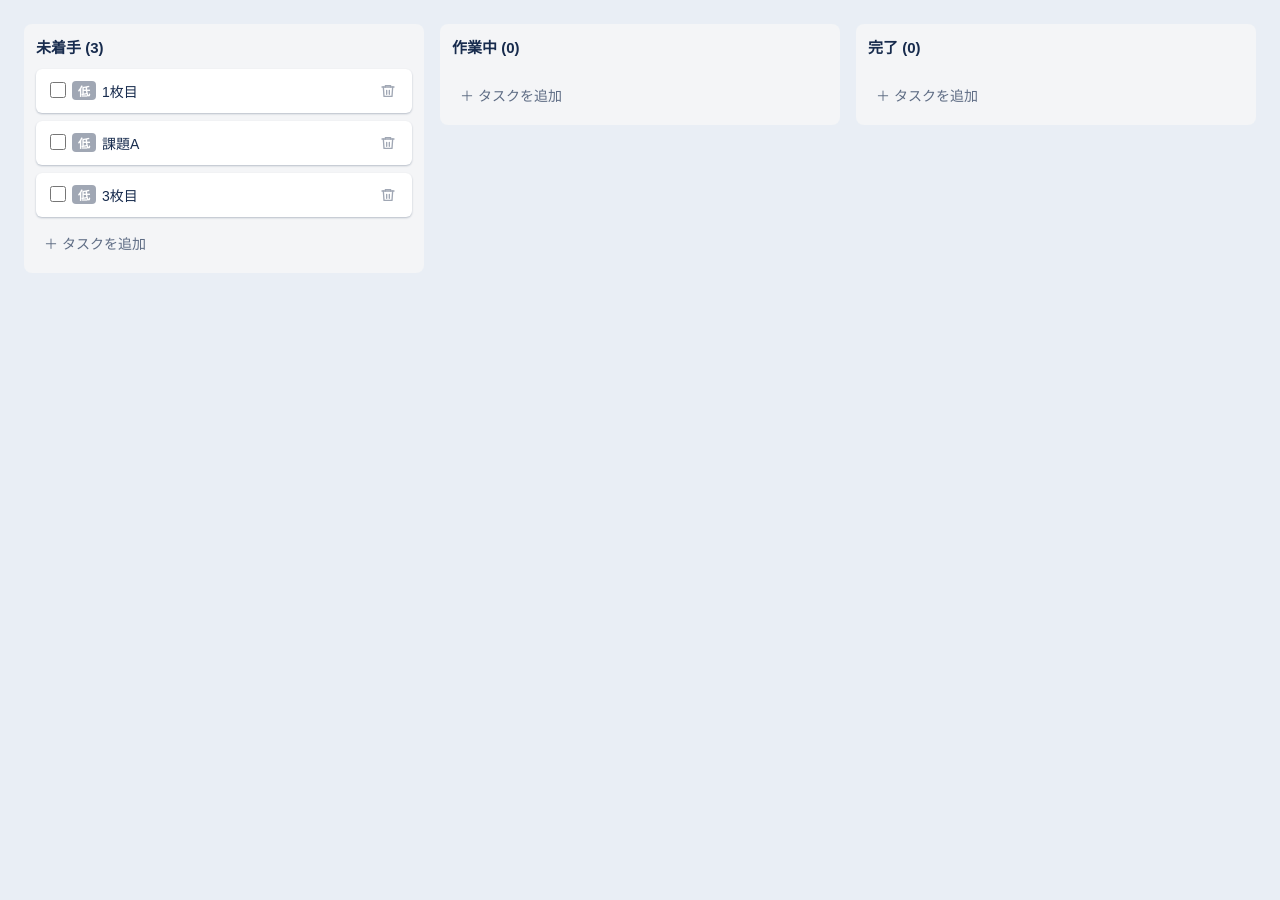
Test: 内容を変えて保存すると、ウィンドウが閉じてカードの表示が変わる
Click the button with aria-label "課題A を編集" at (121, 144), box [36,121,412,165]
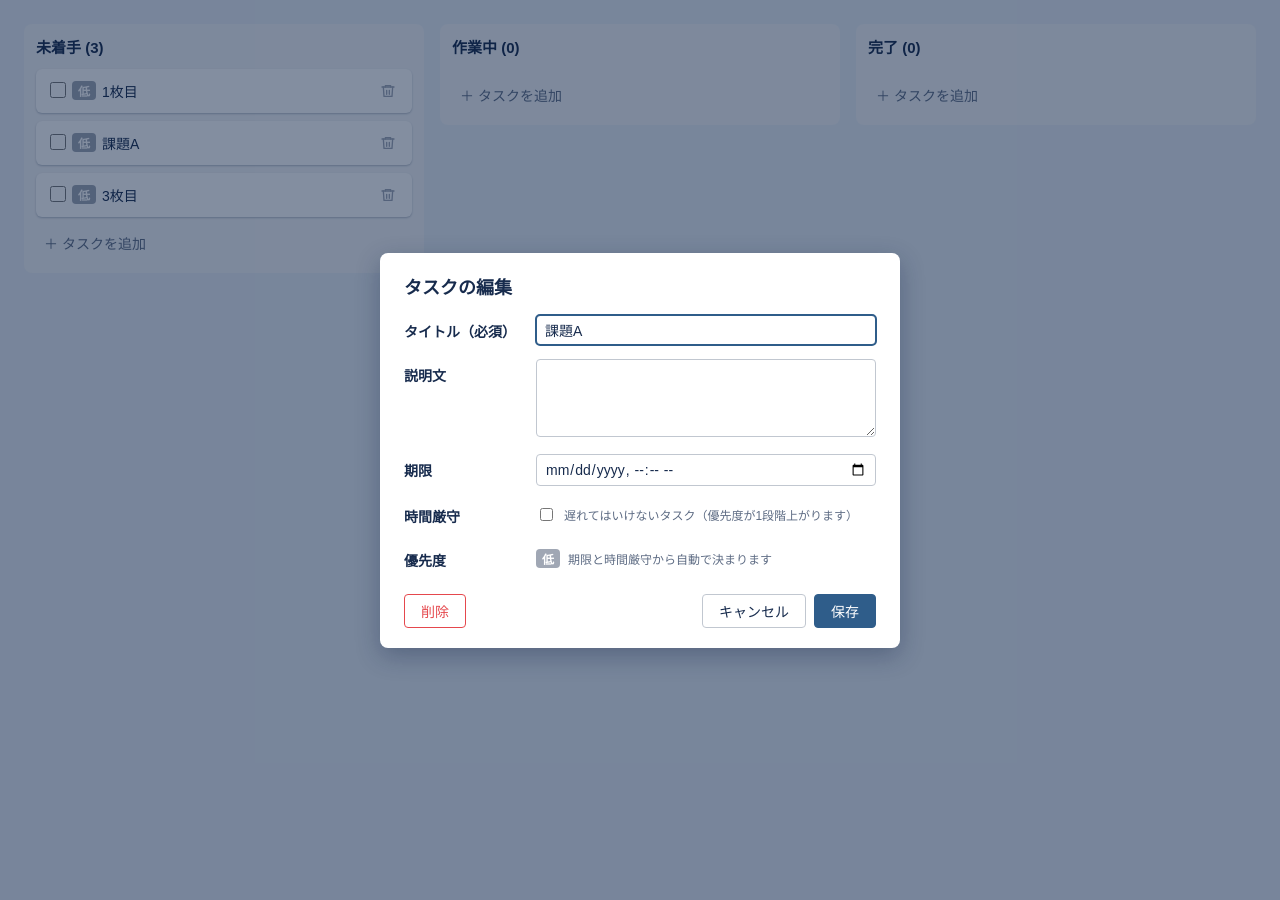
Replace the text in the field labelled "タイトル（必須）" with "課題B" at (706, 330), box [536,314,876,344]
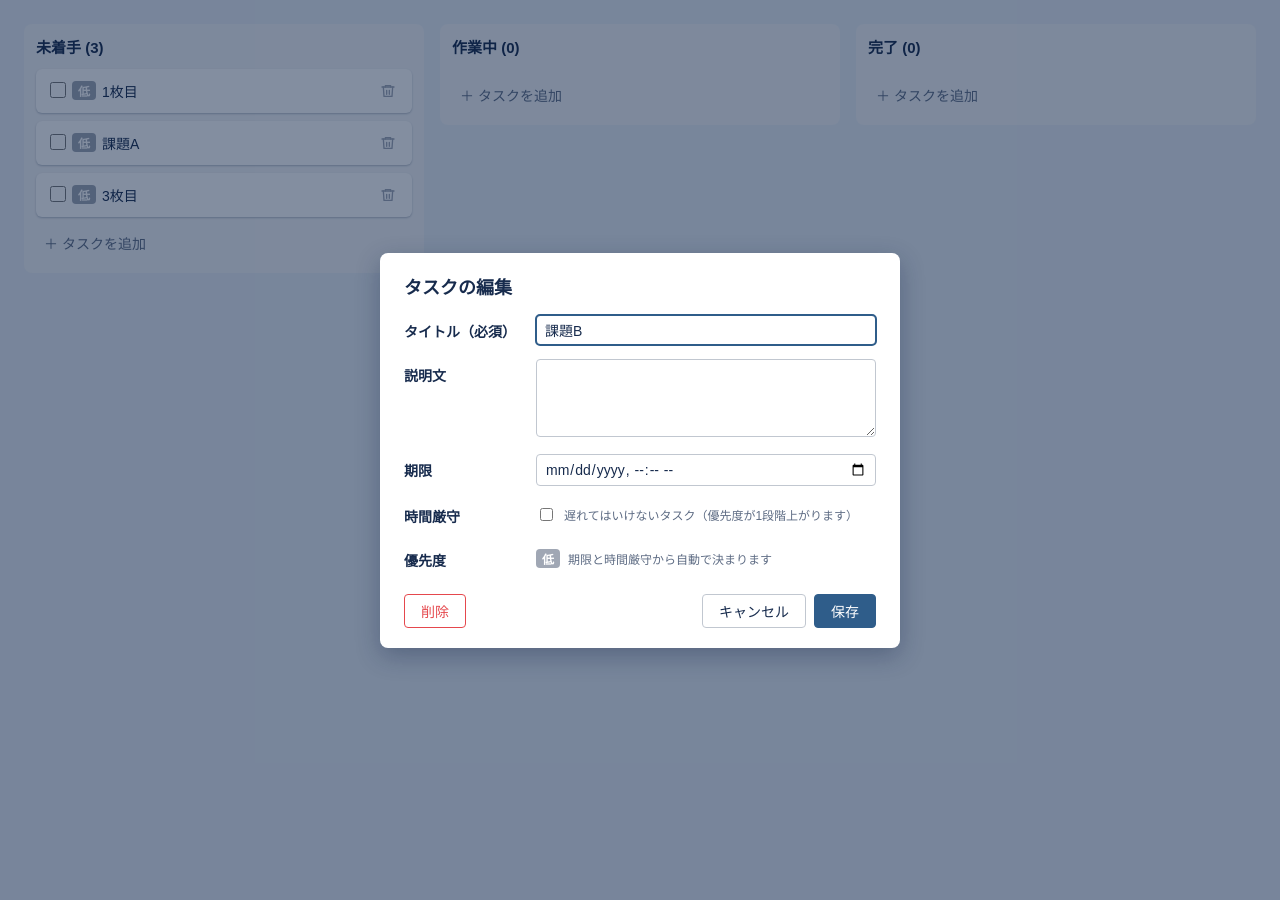
Type "第4章" into the text box labelled "説明文" at (706, 398), box [536,358,876,436]
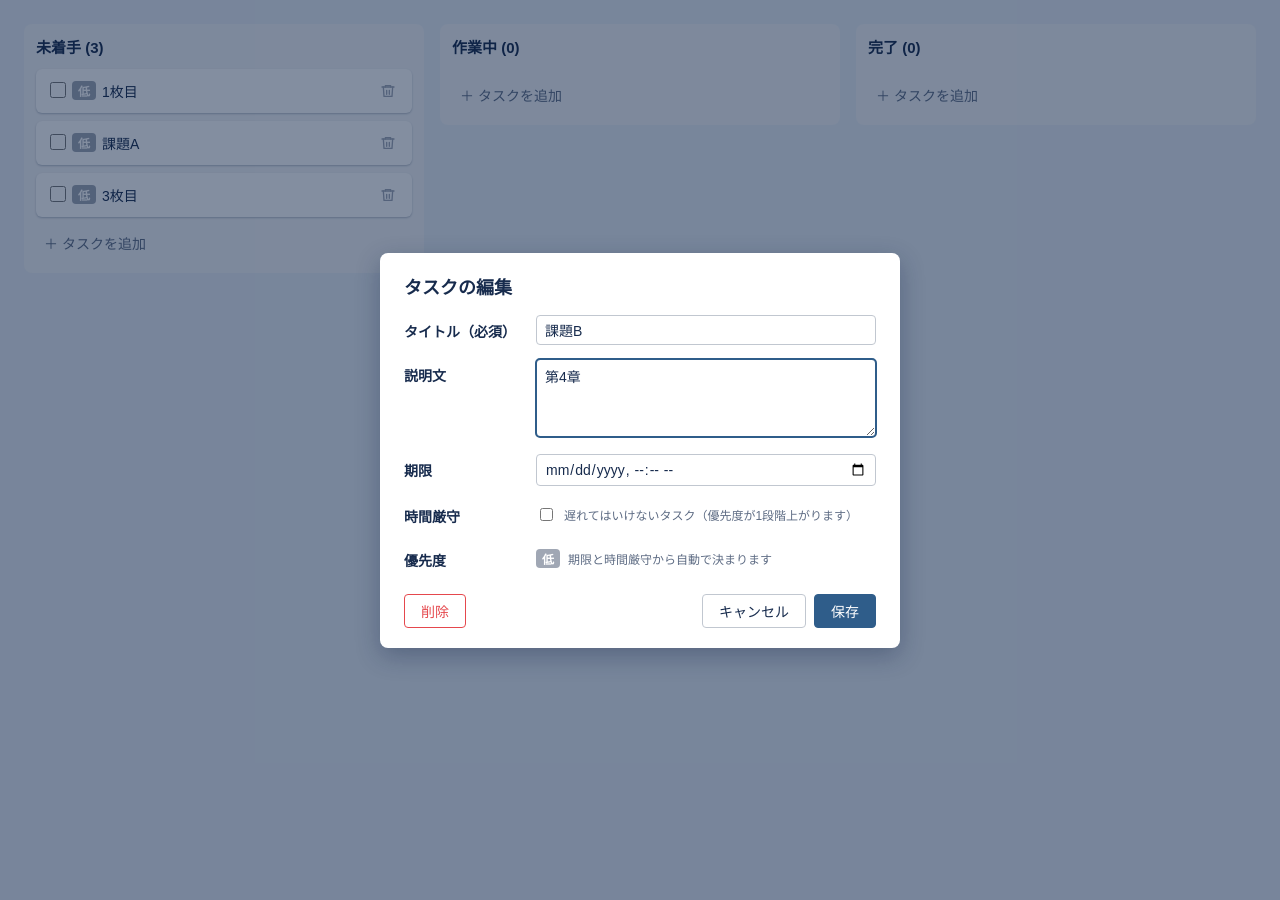
Type "2026-10-07T18:30" into the field labelled "期限" at (706, 470), box [536,454,876,486]
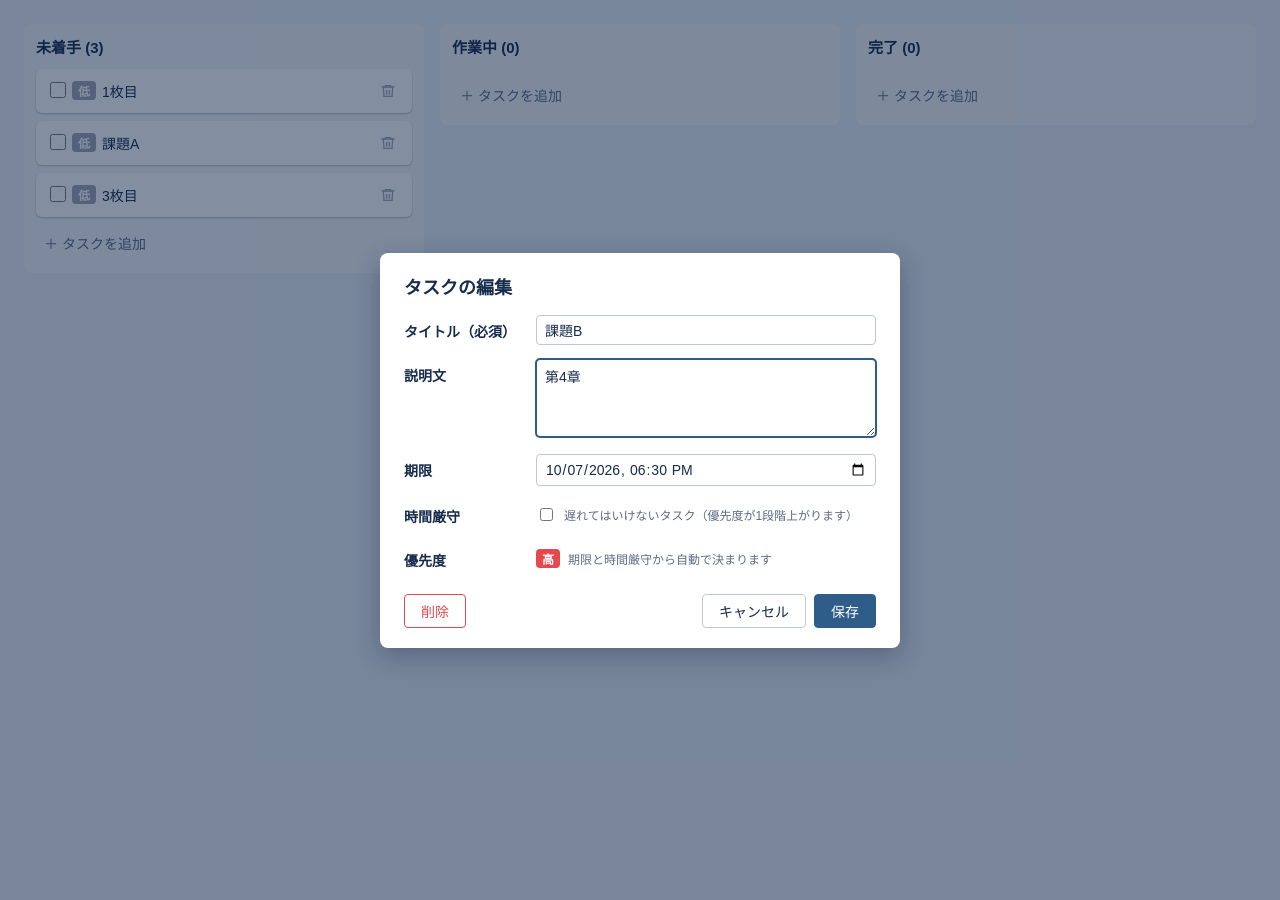
Click the checkbox labelled "時間厳守" at (546, 514), box [540,508,553,521]
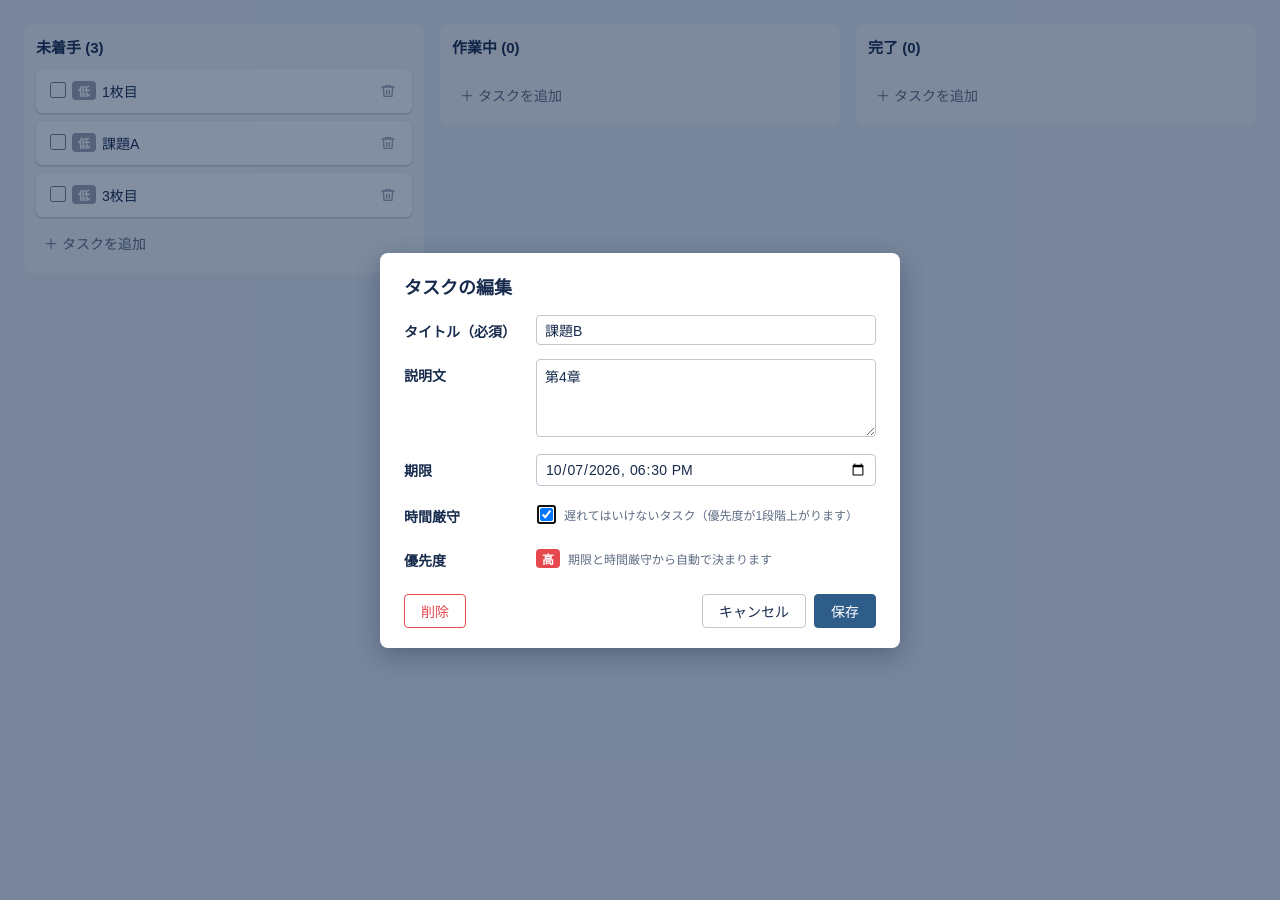
Click the button "保存" at (845, 610), box [814,594,876,628]
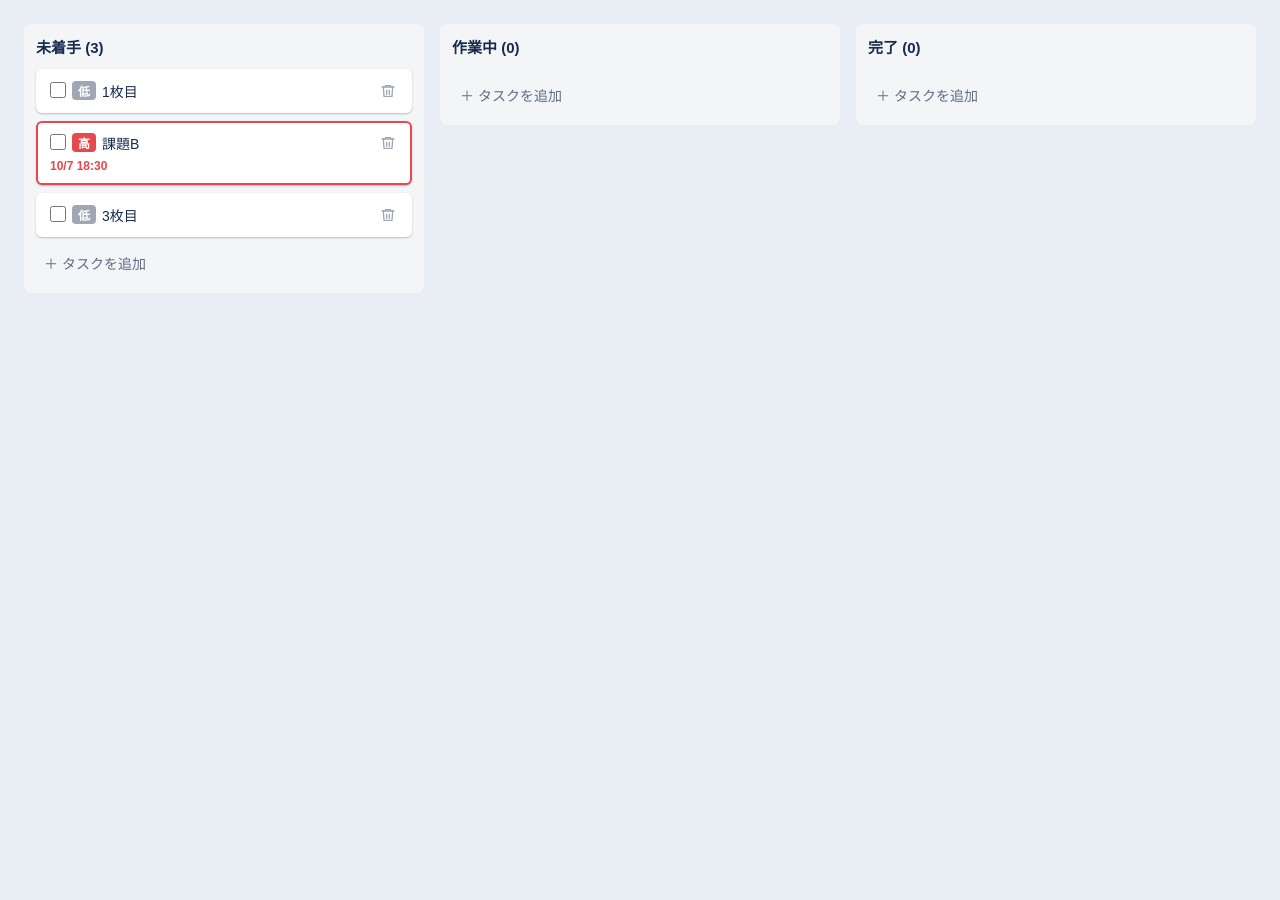
Check: the dialog is gone
